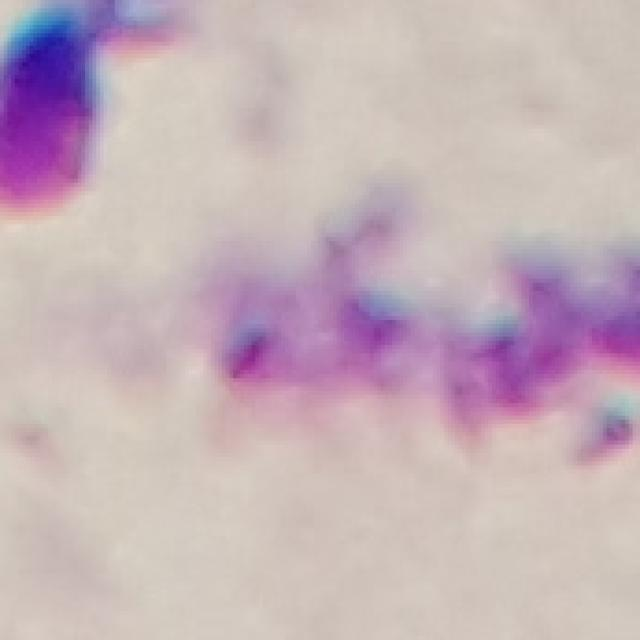non-sperm: (177, 215, 640, 430), (0, 0, 118, 224)
